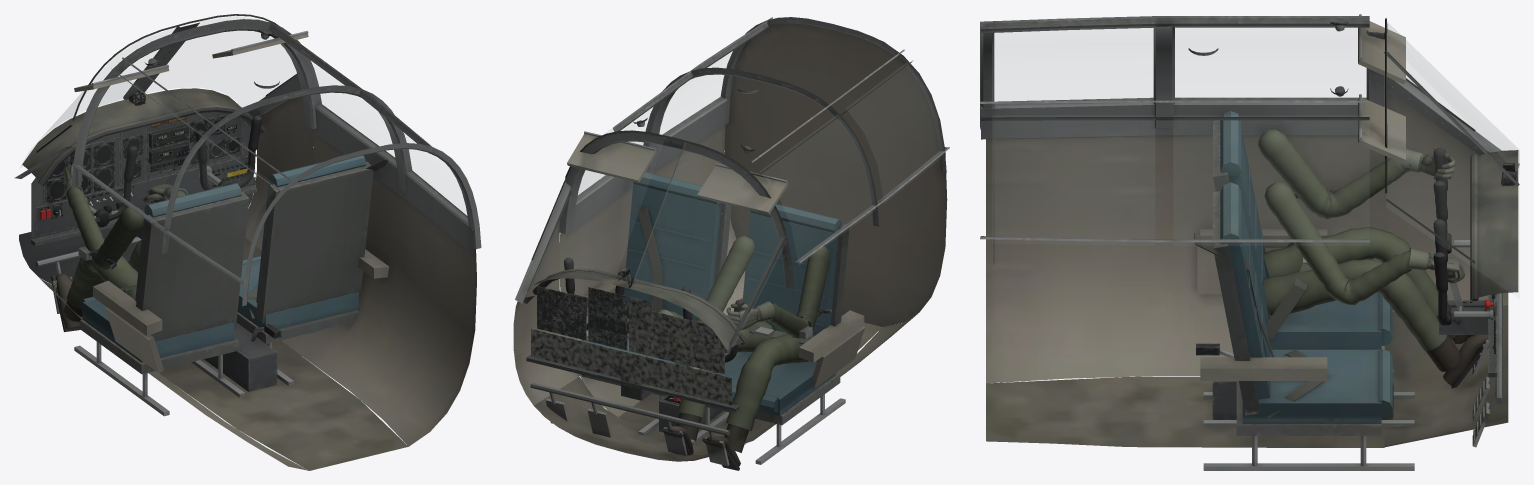
File: gaviota_cockpit.glb
3 renders of one model, left to right at view 1: azimuth 30°, elevation 25°; view 2: azimuth 150°, elevation 25°; view 3: azimuth 270°, elevation 25°, orthographic. The views are drawn at different scales.
Parts seen in each view (by area): view 1: cockpit_shell, hand_stick, stick, canopy_glass; view 2: cockpit_shell, hand_stick, hand_throttle; view 3: cockpit_shell, hand_throttle, hand_stick, canopy_glass, stick.
Boxes of the visible parts, <box> form: cockpit_shell: <box>15,14,481,470</box>; hand_stick: <box>64,165,143,270</box>; stick: <box>71,146,137,227</box>; canopy_glass: <box>44,73,148,134</box>; cockpit_shell: <box>513,17,949,470</box>; hand_stick: <box>726,245,830,338</box>; hand_throttle: <box>658,235,754,323</box>; cockpit_shell: <box>980,14,1519,470</box>; hand_throttle: <box>1264,182,1464,305</box>; hand_stick: <box>1258,129,1455,218</box>; canopy_glass: <box>1387,22,1519,168</box>; stick: <box>1433,147,1470,253</box>.
Bounding box in the file's own units: 1.14 × 1.37 × 1.79.
Materials: 3 (1 with a texture image).
